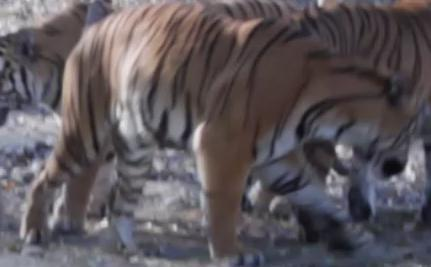tiger: (20, 0, 430, 258)
